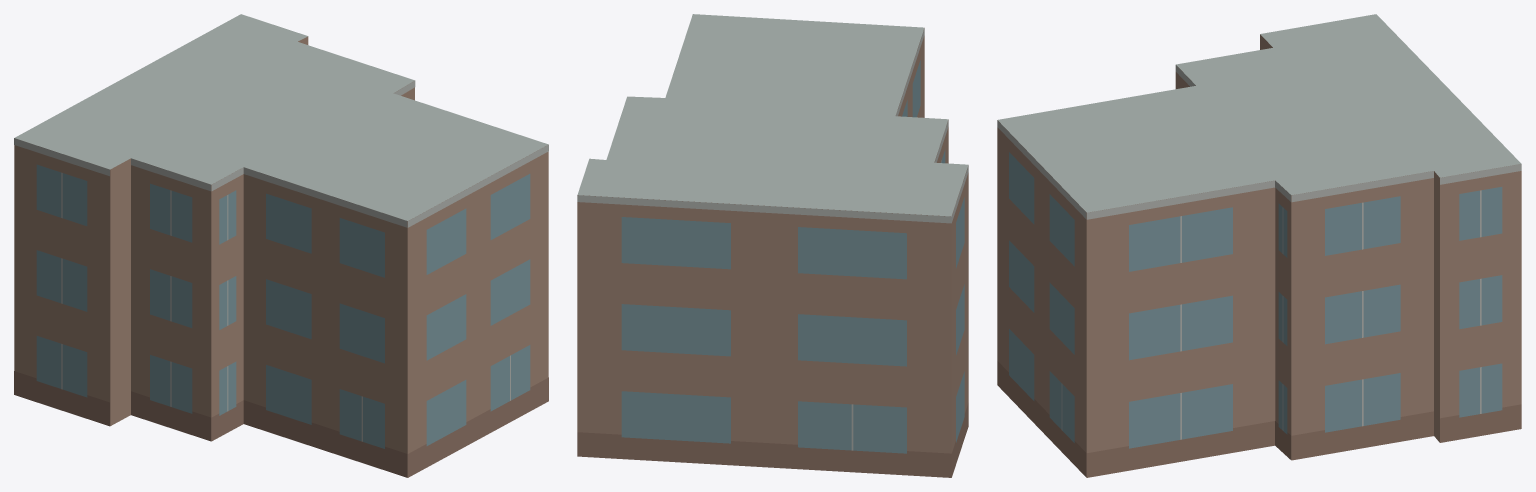
The model's file is survey-upis-32721824.glb.
3 renders of one model, left to right at view 1: azimuth 30°, elevation 25°; view 2: azimuth 150°, elevation 25°; view 3: azimuth 270°, elevation 25°, orthographic. The views are drawn at different scales.
Parts seen in each view (by area): view 1: survey-upis-32721824.tmp; view 2: survey-upis-32721824.tmp; view 3: survey-upis-32721824.tmp.
Boxes of the visible parts, x1,y1,x2,y2 form: survey-upis-32721824.tmp: (14, 14, 548, 477); survey-upis-32721824.tmp: (577, 14, 968, 477); survey-upis-32721824.tmp: (997, 14, 1521, 477).
Bounding box in the file's own units: 14.72 × 9.15 × 16.41.
